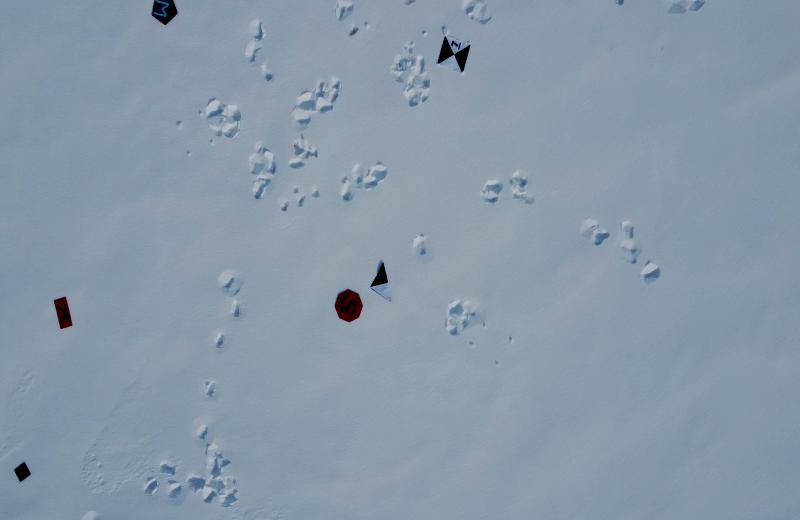Octagon: (333, 285, 365, 328)
Pentagon: (146, 0, 182, 29)
Rectangle: (48, 294, 78, 335)
Square: (11, 460, 35, 484)
